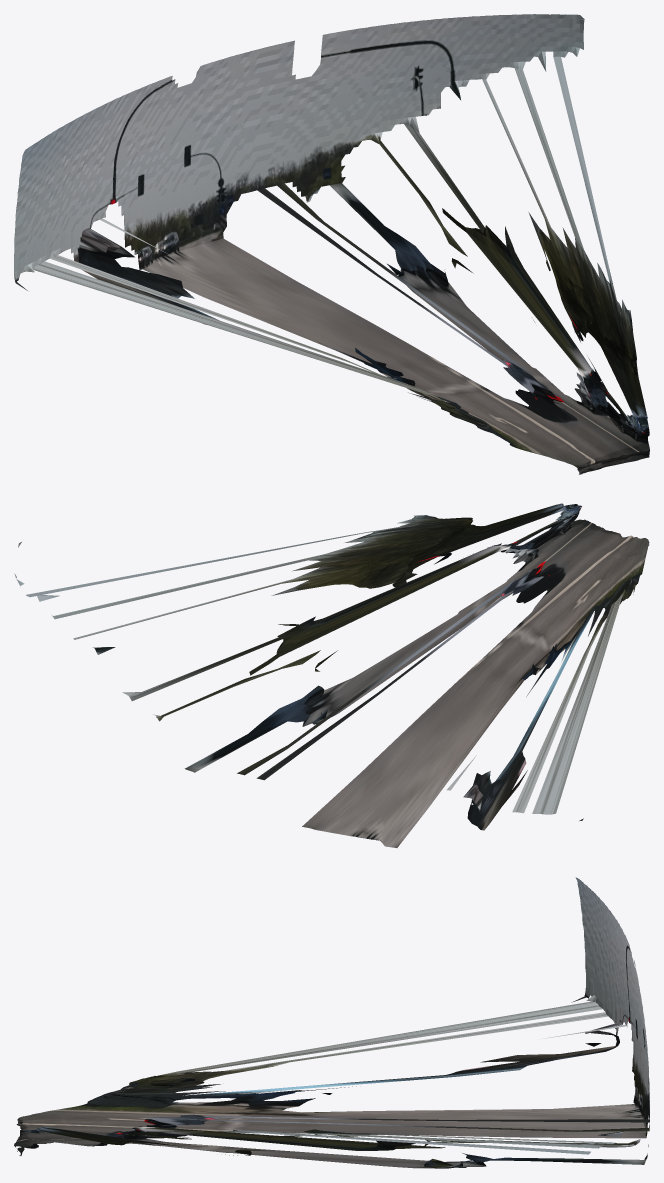
3 renders of one model, top to bottom at view 1: azimuth 30°, elevation 25°; view 2: azimuth 150°, elevation 25°; view 3: azimuth 270°, elevation 25°, orthographic. The views are drawn at different scales.
Parts seen in each view (by area): view 1: defaultobject; view 2: defaultobject; view 3: defaultobject.
Boxes of the visible parts, x1,y1,x2,y2 form: defaultobject: (14, 14, 649, 474); defaultobject: (14, 503, 649, 847); defaultobject: (14, 877, 649, 1168).
Bounding box in the file's own units: 40.91 × 13.17 × 44.36.
1 material, 1 textured.
